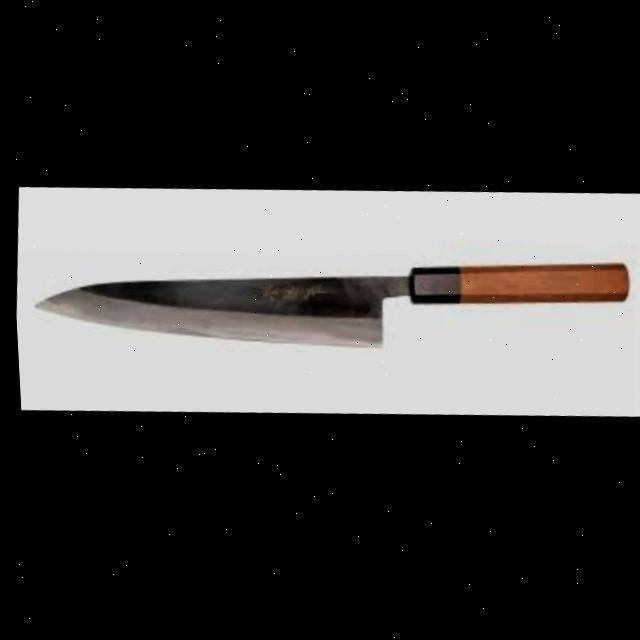Knife: (26, 227, 630, 383)
